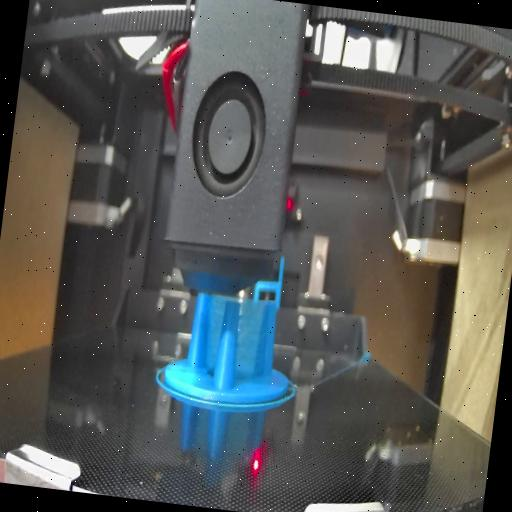stringing: (232, 301, 272, 390), (197, 298, 225, 376)
